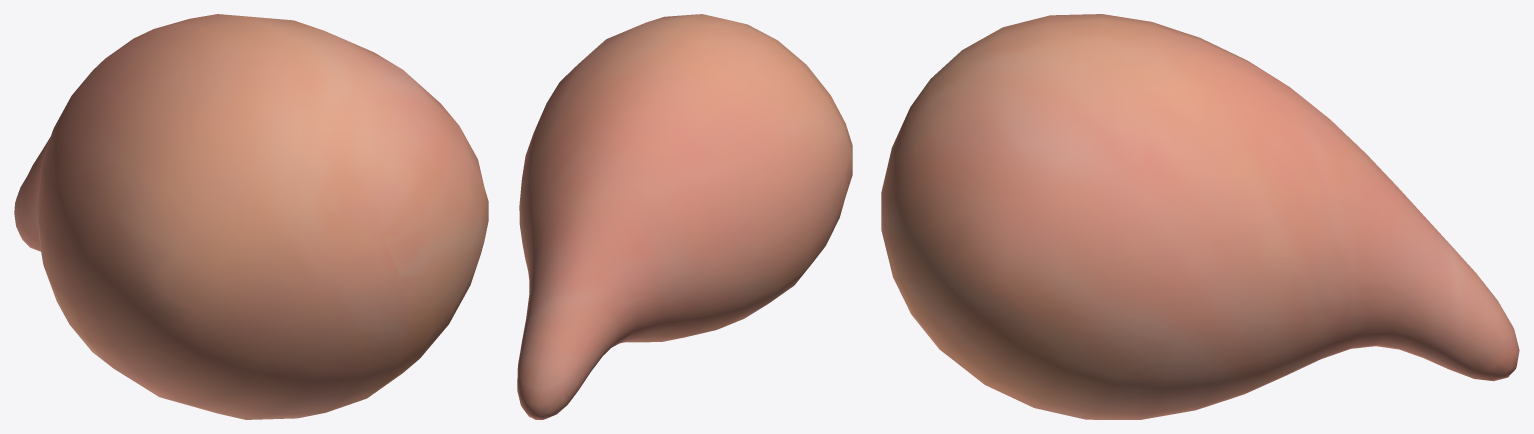
Rendered from Bursa_Fabricii.fbx.
The picture shows the model from 3 angles, left to right: view 1: azimuth 30°, elevation 25°; view 2: azimuth 150°, elevation 25°; view 3: azimuth 270°, elevation 25°; orthographic projection. The views are drawn at different scales.
Visible parts, largest first — view 1: Bursa_Fabricii_LOD0; view 2: Bursa_Fabricii_LOD0; view 3: Bursa_Fabricii_LOD0.
Boxes of the visible parts, x1,y1,x2,y2 form: Bursa_Fabricii_LOD0: [14, 14, 488, 419]; Bursa_Fabricii_LOD0: [517, 14, 852, 419]; Bursa_Fabricii_LOD0: [881, 14, 1519, 419].
Size of what is drawn, in the model's own units: 0.08 by 0.0769 by 0.1221.
1 material, 1 textured.
